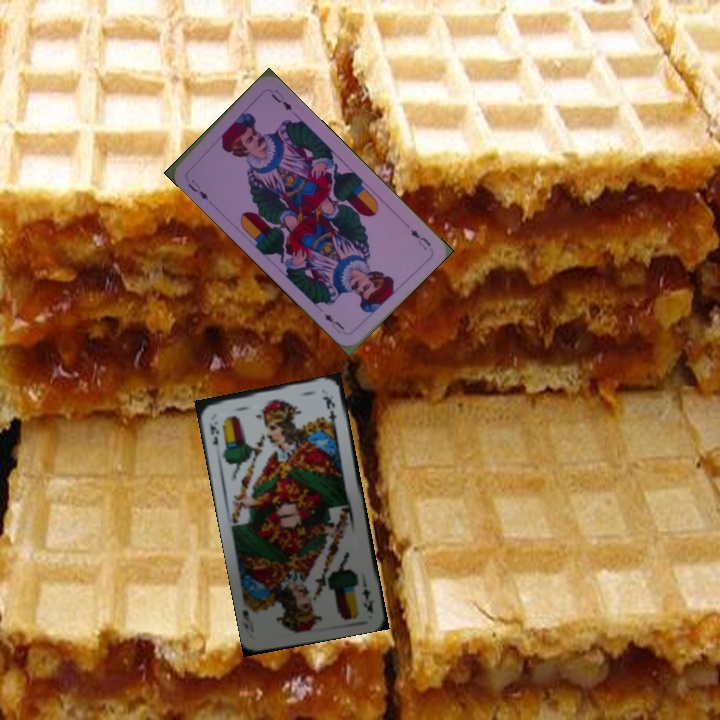EK: (358, 575, 377, 615), (206, 417, 222, 448)
EU: (184, 176, 213, 205), (406, 225, 433, 253)
